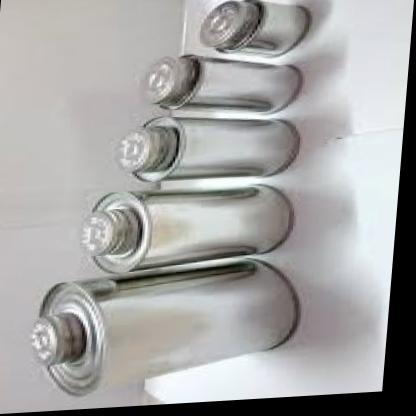Metal: (20, 1, 363, 414)
